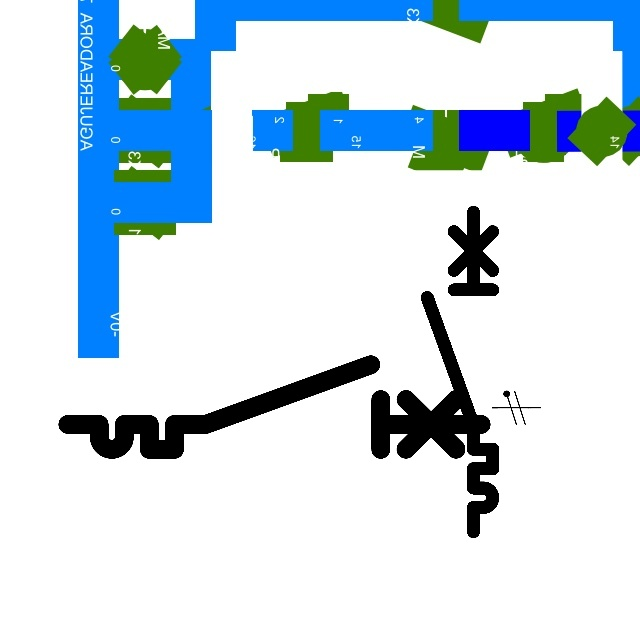interruptor_termomagnetico: (57, 354, 492, 460), (419, 204, 501, 540)
